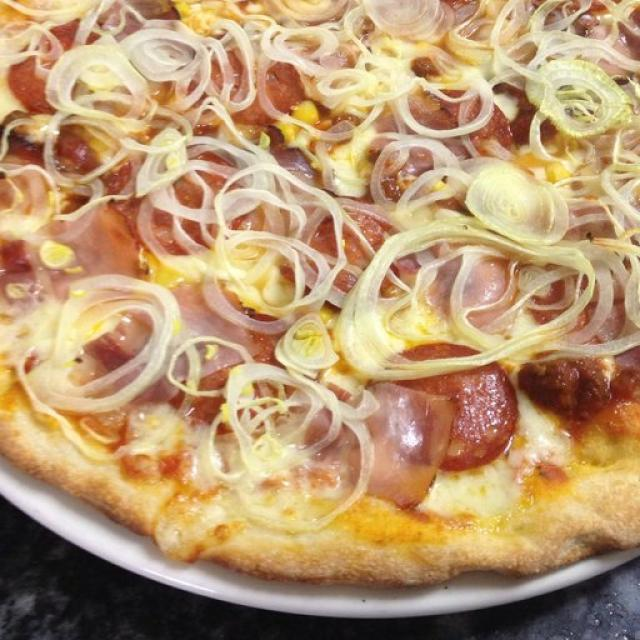Ham: (295, 387, 463, 506), (148, 278, 249, 403), (31, 203, 142, 281), (427, 250, 517, 328), (588, 25, 636, 78), (321, 52, 353, 70)
Onions: (343, 229, 640, 369), (210, 365, 367, 528), (23, 277, 178, 411), (218, 164, 342, 316), (139, 132, 270, 222), (50, 46, 153, 135), (465, 166, 567, 243), (125, 31, 209, 118), (368, 143, 464, 217), (403, 54, 485, 139), (288, 117, 364, 199), (530, 72, 618, 138), (345, 15, 406, 104), (171, 335, 246, 391), (209, 22, 257, 108), (277, 313, 336, 372), (260, 26, 338, 64), (318, 74, 371, 98)
Pepperoni: (382, 342, 516, 472), (443, 92, 513, 162), (238, 66, 302, 118), (5, 130, 94, 167), (11, 38, 57, 108), (46, 22, 96, 46)
Pizza: (0, 0, 640, 589)
